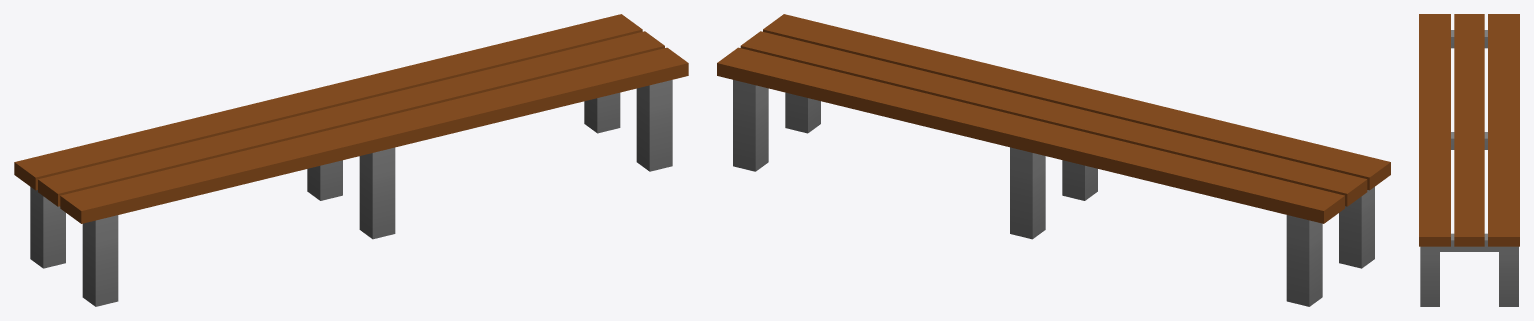
The model's file is Bench_1_A_3.fbx.
3 views of the same model, side by side, from view 1: azimuth 30°, elevation 25°; view 2: azimuth 150°, elevation 25°; view 3: azimuth 270°, elevation 25° (orthographic). The views are drawn at different scales.
Parts seen in each view (by area): view 1: Bench_1_A_3; view 2: Bench_1_A_3; view 3: Bench_1_A_3.
Part boxes in pixels (box(x1,y1,x2,y2)): Bench_1_A_3: box(14, 14, 688, 306); Bench_1_A_3: box(717, 14, 1390, 306); Bench_1_A_3: box(1419, 14, 1519, 306).
Bounding box in the file's own units: 213 × 33.54 × 40.68.
